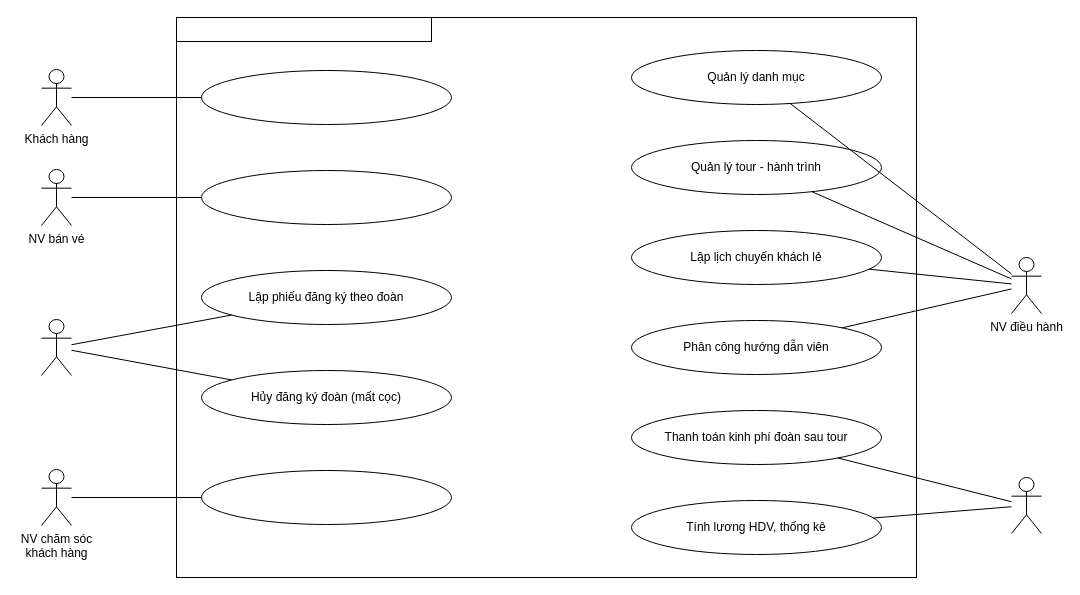
This 1080x595 diagram has some shape labels left out. Here are the shapes that lost their labels. From the top down, the centre of each, then its label:
[304,29]: Hệ thống quản lý công ty du lịch
[326,97]: Xem thông tin tour
[326,197]: Đăng ký khách lẻ theo chuyến
[56,347]: NV kinh doanh
[326,497]: Khảo sát khách hàng
[1026,505]: Kế toán
